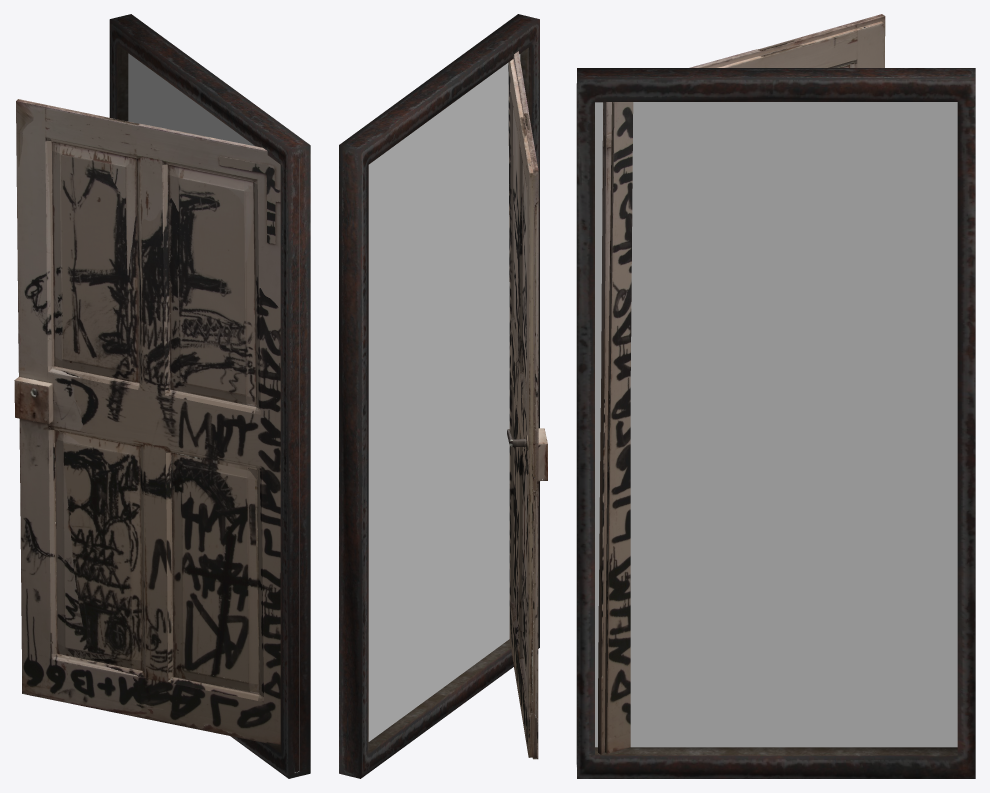
The model's file is DoorRetopo2.glb.
3 renders of one model, left to right at view 1: azimuth 30°, elevation 25°; view 2: azimuth 150°, elevation 25°; view 3: azimuth 270°, elevation 25°, orthographic. The views are drawn at different scales.
Visible parts, largest first — view 1: Plane.002, Object_3.001, Invisible; view 2: Invisible, Object_3.001, Plane.002; view 3: Invisible, Object_3.001, Plane.002.
Part boxes in pixels (x1,y1,x2,y2): Plane.002: (14, 99, 280, 744); Object_3.001: (109, 14, 310, 778); Invisible: (128, 53, 299, 772); Invisible: (368, 54, 520, 741); Object_3.001: (339, 14, 539, 778); Plane.002: (507, 51, 547, 759); Invisible: (576, 83, 957, 767); Object_3.001: (577, 68, 975, 778); Plane.002: (598, 14, 885, 754).
Size of the model in its own units: 1.07 by 3.94 by 2.04.
2 materials, 2 textured.
